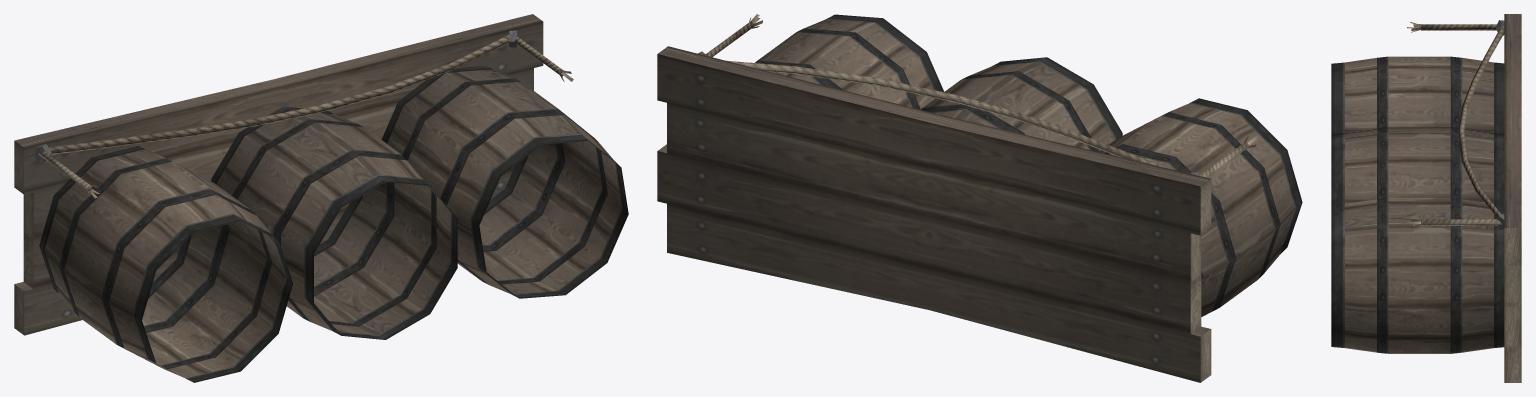
File: Bar_B.fbx
3 renders of one model, left to right at view 1: azimuth 30°, elevation 25°; view 2: azimuth 150°, elevation 25°; view 3: azimuth 270°, elevation 25°, orthographic. The views are drawn at different scales.
Parts seen in each view (by area): view 1: Bar_B; view 2: Bar_B; view 3: Bar_B.
Part boxes in pixels (<box>): Bar_B: <box>14,14,628,382</box>; Bar_B: <box>657,14,1302,382</box>; Bar_B: <box>1331,14,1521,382</box>.
Bounding box in the file's own units: 3.14 × 1.09 × 1.18.
